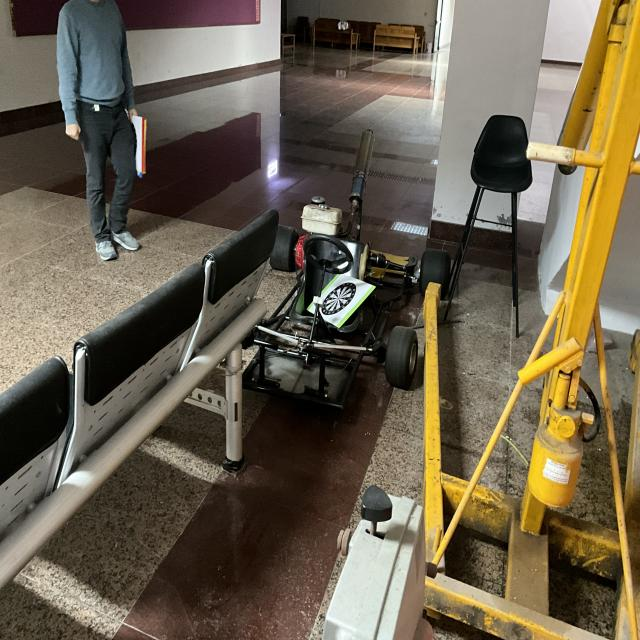archery-targets: (322, 282, 356, 316)
